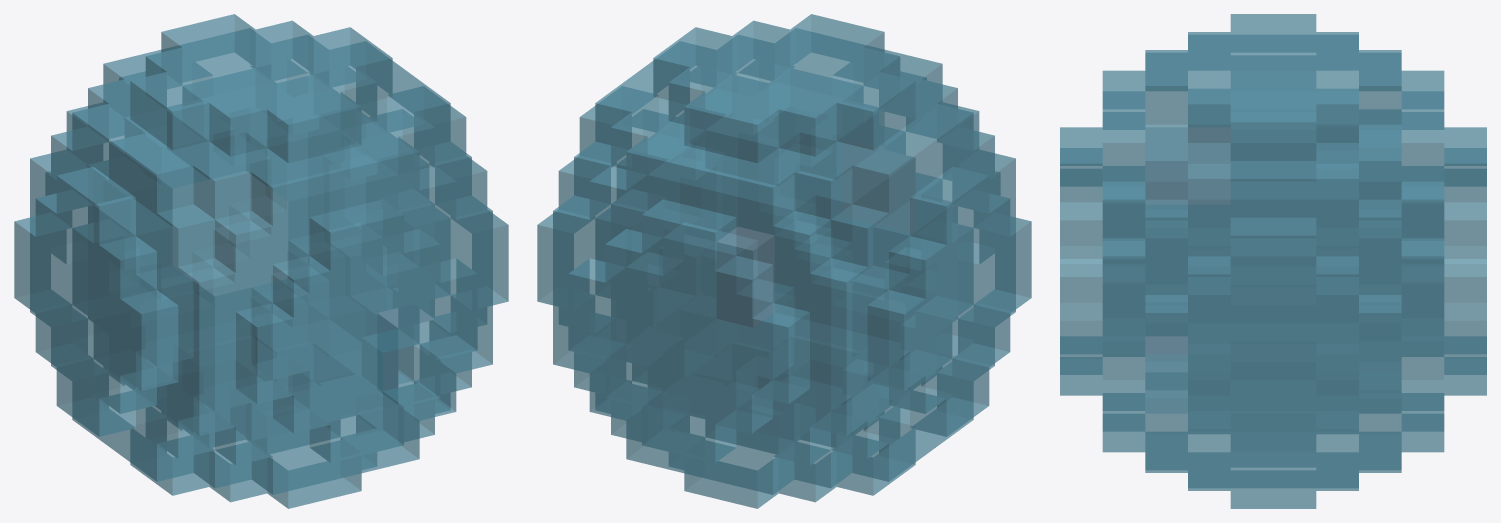
File: air_bubble.glb
The picture shows the model from 3 angles, left to right: view 1: azimuth 30°, elevation 25°; view 2: azimuth 150°, elevation 25°; view 3: azimuth 270°, elevation 25°; orthographic projection.
Parts seen in each view (by area): view 1: bubble; view 2: bubble; view 3: bubble.
Boxes of the visible parts, <box> form: bubble: <box>14,14,508,508</box>; bubble: <box>537,14,1031,508</box>; bubble: <box>1060,14,1486,508</box>.
Size of the model in its own units: 0.625 by 0.625 by 0.625.
Materials: 2 (2 with a texture image).
